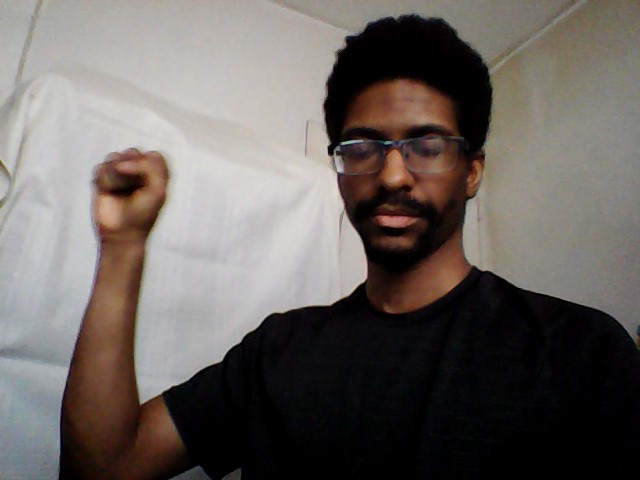s: (85, 143, 175, 240)
